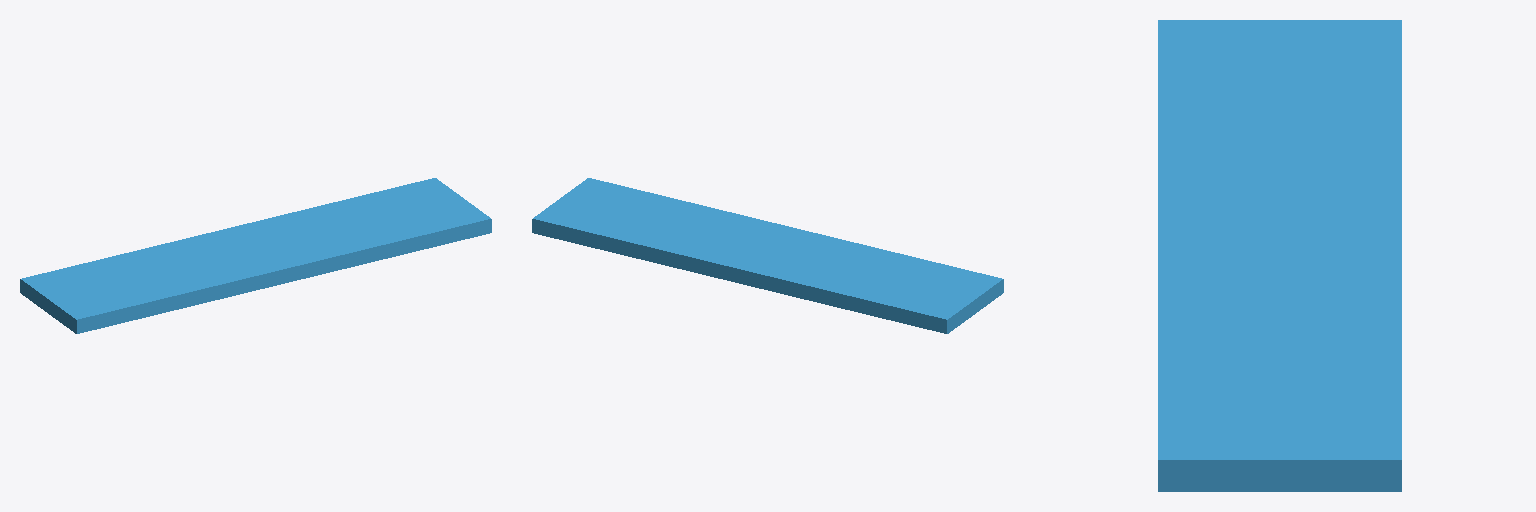
URDF robot description (cylinder_79):
    
    <robot name="cylinder_79">
        <link name="cylinder_79">    
            <fem>
                <origin rpy="0.0 0.0 0.0" xyz="0 0 0" />
                <density value="100" />
                <youngs value="10369"/>
                <poissons value="0.3" />
                <damping value="0.0" />
                <attachDistance value="0.01" />
                <tetmesh filename="[local-path]/sim_data/Custom/Custom_mesh/multi_cylinder_10kPa/cylinder_79.tet" />
                <scale value="0.5"/>
            </fem>
        </link>

        <link name="fix_frame">
            <visual>
                <origin xyz="0.0 0.0 10.09721798277487"/>
                <geometry>
                    <box size="0.15 0.03509604614609959 0.005"/>
                </geometry>
            </visual>
            <collision>
                <origin xyz="0.0 0.0 0.09721798277487043"/>
                <geometry>
                    <box size="0.15 0.03509604614609959 0.005"/>
                </geometry>
            </collision>
            <inertial>
                <mass value="500000"/>
                <inertia ixx="0.05" ixy="0.0" ixz="0.0" iyy="0.05" iyz="0.0" izz="0.05"/>
            </inertial>
        </link>
        
        <joint name = "attach" type = "fixed">
            <origin xyz = "0.0 0.0 0.0" rpy = "0 0 0"/>
            <parent link ="cylinder_79"/>
            <child link = "fix_frame"/>
        </joint>  




    </robot>
    

--- Facts derived from the render (not from the file) ---
The picture shows the robot from 3 angles, left to right: view 1: azimuth 30°, elevation 25°; view 2: azimuth 150°, elevation 25°; view 3: azimuth 270°, elevation 25°; orthographic projection.
Model cylinder_79 with 2 links and 1 joints (1 fixed), rooted at cylinder_79, posed all joints at 0.
Links seen in each view (by area): view 1: fix_frame; view 2: fix_frame; view 3: fix_frame.
Boxes of the visible links, x1,y1,x2,y2 form: fix_frame: (20, 178, 491, 333); fix_frame: (532, 178, 1003, 333); fix_frame: (1158, 20, 1401, 491).
Bounding box of the posed robot: 0.15 × 0.0351 × 0.005 m (x, y, z).
Geometry: primitives only (box / cylinder / sphere), no mesh files.